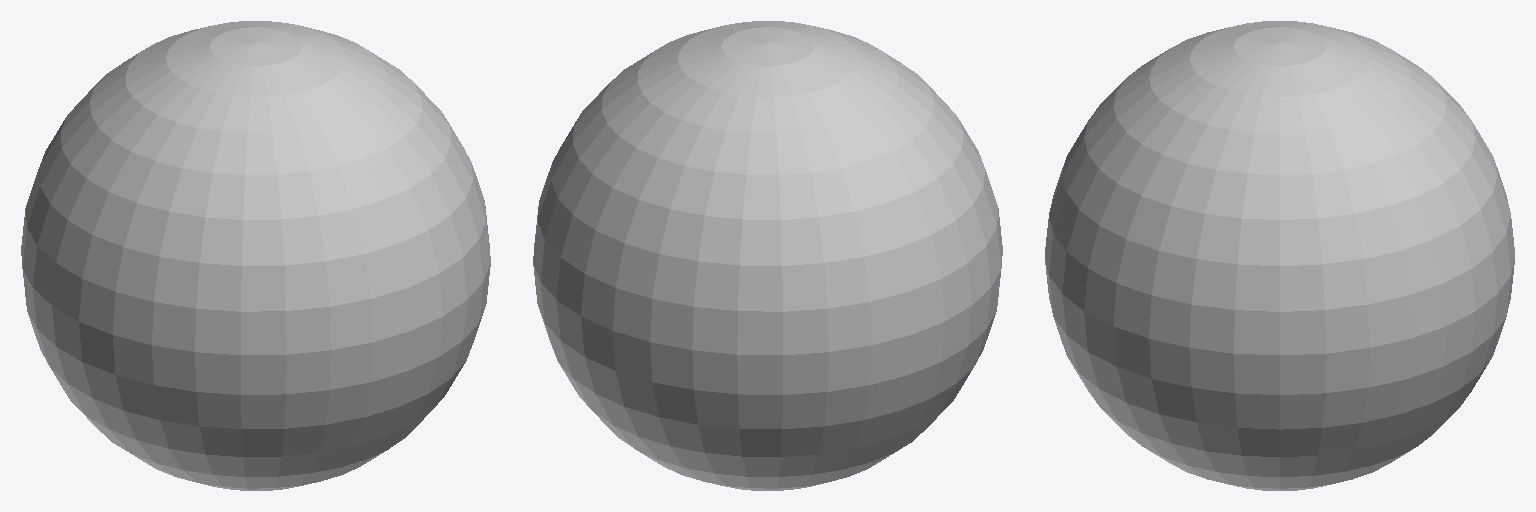
File: esfera.obj
The picture shows the model from 3 angles: view 1: azimuth 30°, elevation 25°; view 2: azimuth 150°, elevation 25°; view 3: azimuth 270°, elevation 25°; orthographic projection.
Parts seen in each view (by area): view 1: esfera_Sphere; view 2: esfera_Sphere; view 3: esfera_Sphere.
Boxes of the visible parts, box(x1,y1,x2,y2) form: esfera_Sphere: box(21, 21, 490, 490); esfera_Sphere: box(533, 21, 1002, 490); esfera_Sphere: box(1045, 21, 1514, 490).
Size of the model in its own units: 0.973 by 0.973 by 0.973.